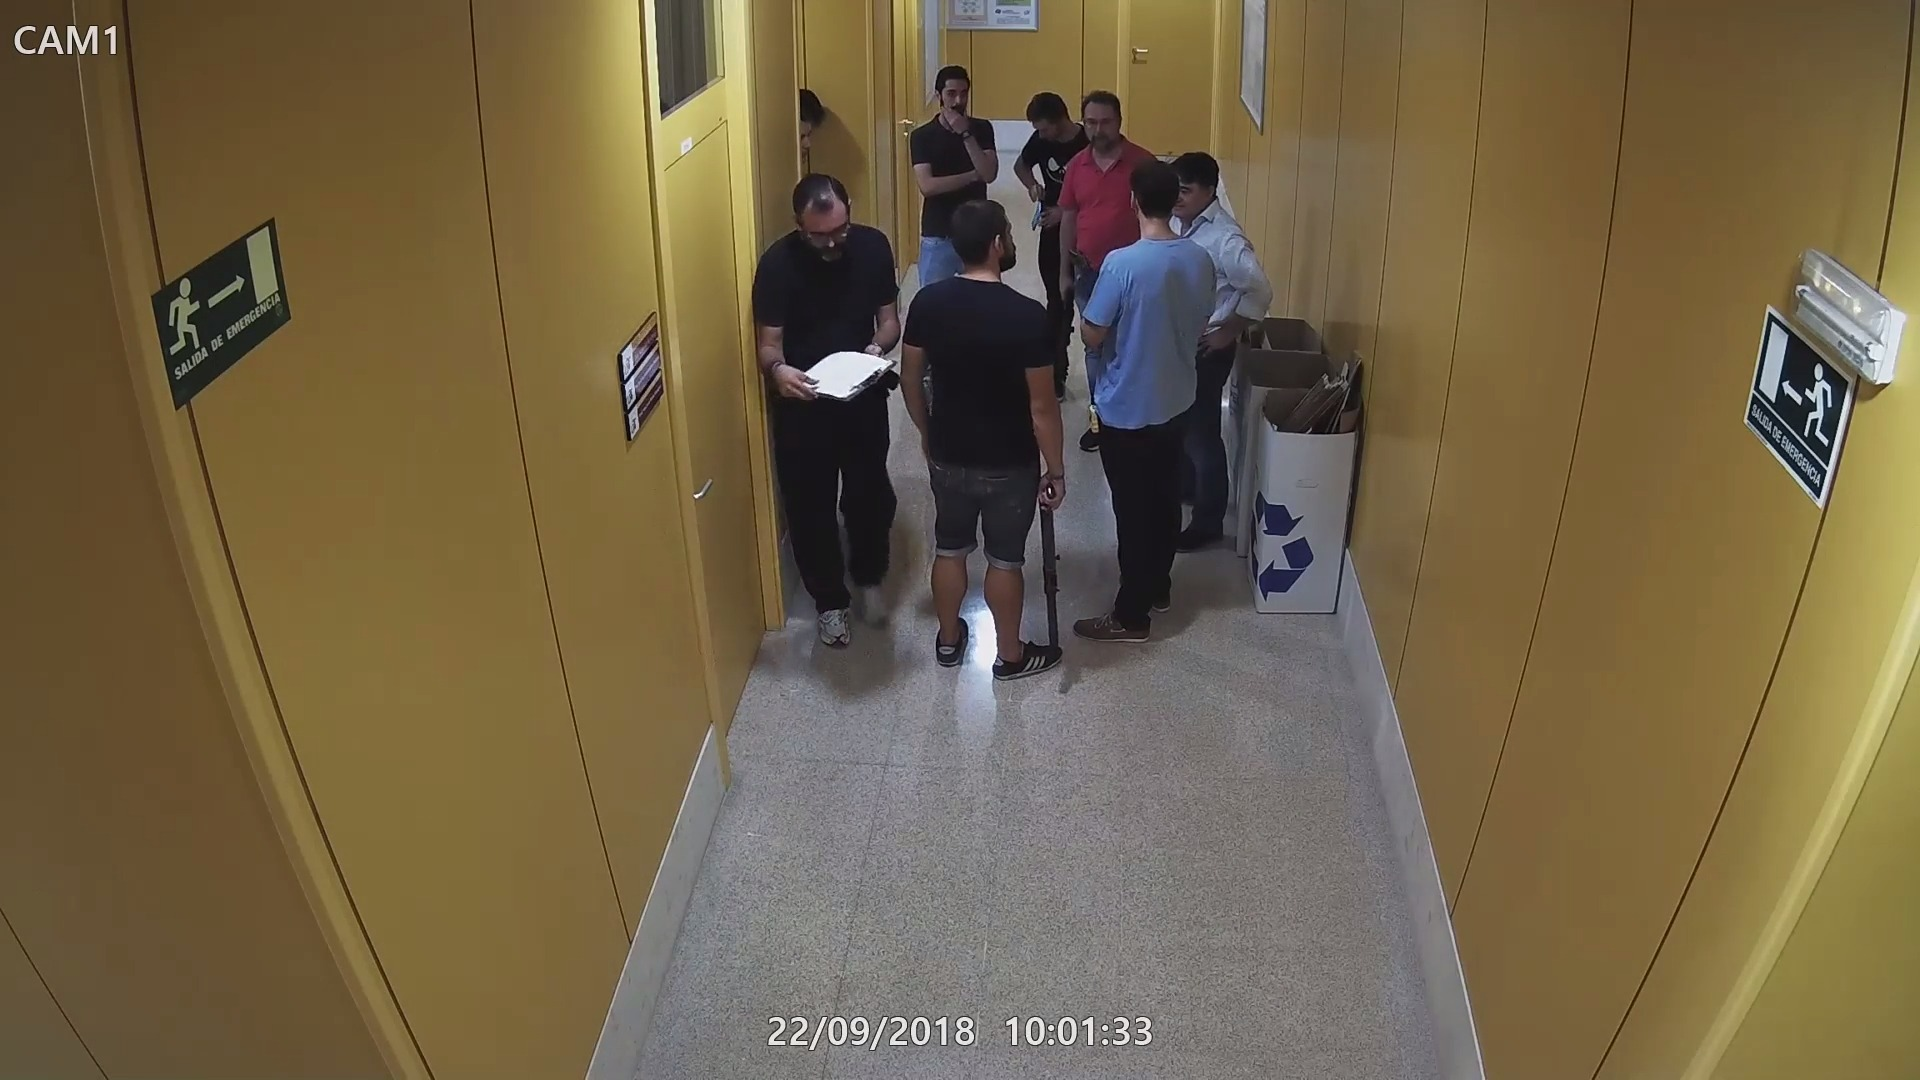Handgun: (1065, 247, 1092, 274)
Short_rifle: (1035, 471, 1069, 667), (1051, 285, 1077, 392)
